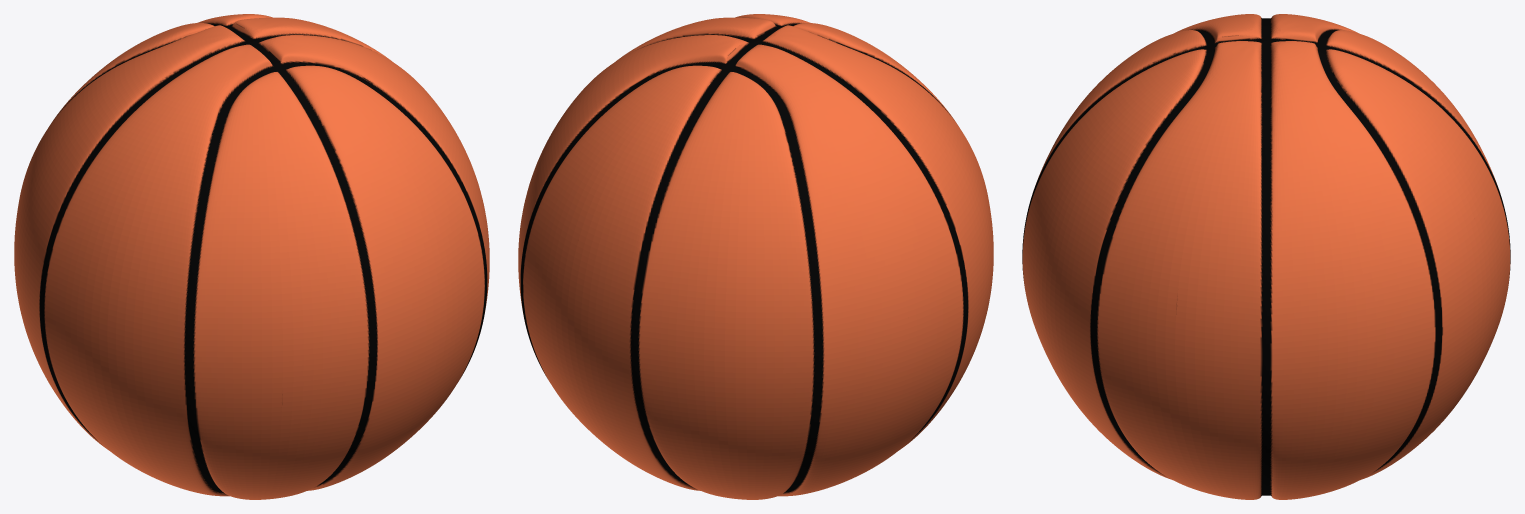
File: BalonBaloncesto5.obj
The picture shows the model from 3 angles, left to right: view 1: azimuth 30°, elevation 25°; view 2: azimuth 150°, elevation 25°; view 3: azimuth 270°, elevation 25°; orthographic projection.
Parts seen in each view (by area): view 1: BasketBall; view 2: BasketBall; view 3: BasketBall.
Boxes of the visible parts, x1,y1,x2,y2 form: BasketBall: (14, 14, 489, 499); BasketBall: (518, 14, 993, 499); BasketBall: (1022, 14, 1510, 499).
Bounding box in the file's own units: 1.98 × 1.98 × 1.98.
2 materials, 2 textured.
